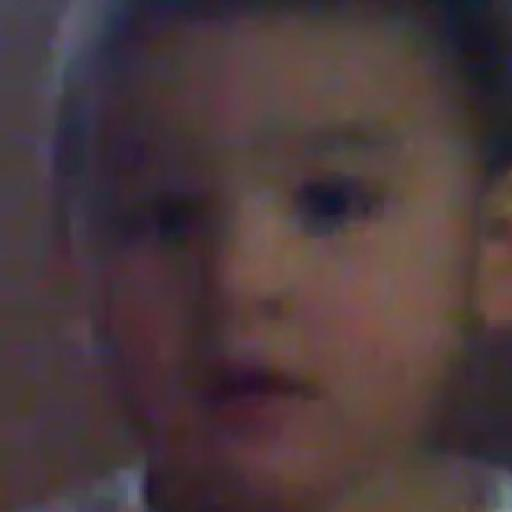Autism: (75, 0, 462, 512)
